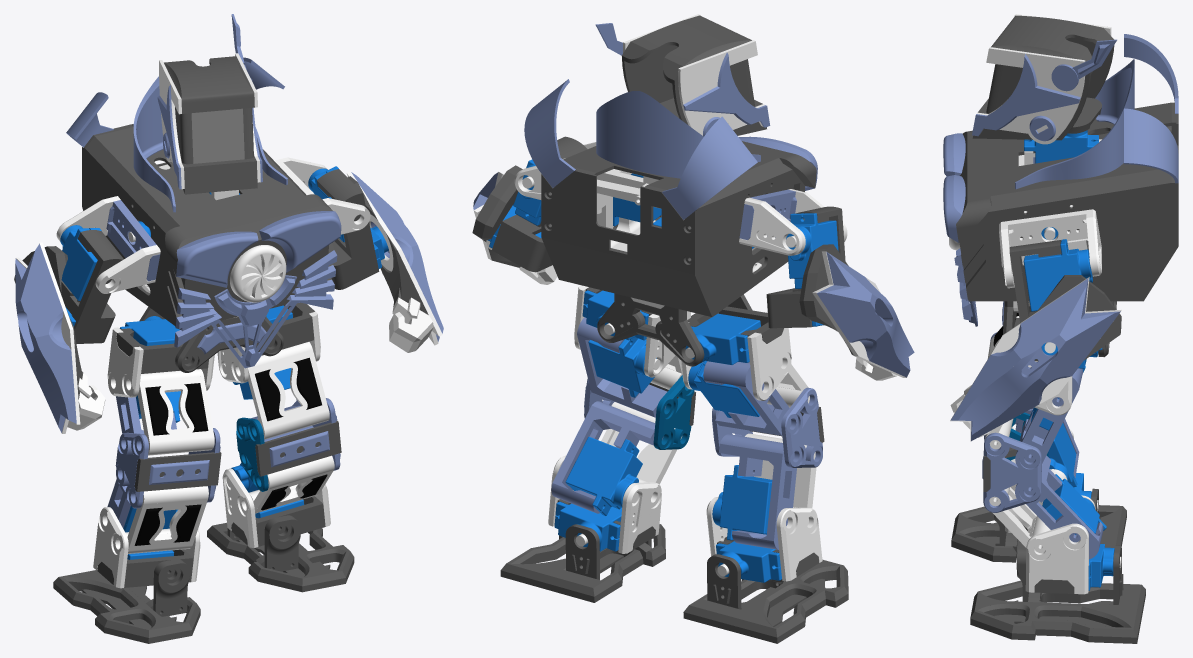
The model's file is E1_GYPSY_COMPLETO_RBT_V1_IB2026-v1.glb.
3 views of the same model, side by side, from view 1: azimuth 30°, elevation 25°; view 2: azimuth 150°, elevation 25°; view 3: azimuth 270°, elevation 25° (orthographic). The views are drawn at different scales.
Parts seen in each view (by area): view 1: CuerpoCENTRAL_RBT_V1_IB2026-1 (×9), JuntaArticulaciones_RBT_V1_IB2026-1 (×2), CabezaMC_RBT_V1IB2026-1 (×3), PlantaPie_RBT_V1_IB2026-1 (×2), Prueba 2 mano-3 (×4), ArtRODILLA_RBT_V1_IB2026-1_1 (×3), Prueba 2 mano-1 (×4), ServoAzul-1_12, ArtHombro_RBT_V1_IB2026-1 (×5), ArtPIERNA_RBT_V1_IB2026-2 (×3), ArtPIERNA_RBT_V1_IB2026-1 (×2), EjePie_RBT_V1_IB2026-3 (+7 smaller); view 2: CuerpoCENTRAL_RBT_V1_IB2026-1 (×7), ServoAzul-1_12, ServoPIERNA_RBT_V1_IB2026-1_2, CabezaMC_RBT_V1IB2026-1 (×3), PlantaPie_RBT_V1_IB2026-1 (×2), Prueba 2 mano-3 (×3), ArtPIERNA_RBT_V1_IB2026-2 (×2), JuntaArticulaciones_RBT_V1_IB2026-1, ArtPIERNA_RBT_V1_IB2026-1 (×2), ArtHombro_RBT_V1_IB2026-1 (×3), EjeCADERA_RBT_V1_IB2026-1, EjePie_RBT_V1_IB2026-2_1 (+7 smaller); view 3: CuerpoCENTRAL_RBT_V1_IB2026-1 (×9), CabezaMC_RBT_V1IB2026-1 (×5), Prueba 2 mano-1 (×3), PlantaPie_RBT_V1_IB2026-1 (×2), ServoAzul-1_12, ArtPIERNA_RBT_V1_IB2026-1 (×2), ServoPIERNA_RBT_V1_IB2026-1_2, ArtHombro_RBT_V1_IB2026-1 (×3), ArtRODILLA_RBT_V1_IB2026-1_1 (×2), JuntaArticulaciones_RBT_V1_IB2026-1, Bracket09_W_SWpart-2, EjePie_RBT_V1_IB2026-2_1 (+4 smaller).
Boxes of the visible parts, bbox=[...] form: CuerpoCENTRAL_RBT_V1_IB2026-1 (×9): bbox=[66, 57, 341, 368]; JuntaArticulaciones_RBT_V1_IB2026-1 (×2): bbox=[125, 342, 334, 553]; CabezaMC_RBT_V1IB2026-1 (×3): bbox=[157, 56, 257, 194]; PlantaPie_RBT_V1_IB2026-1 (×2): bbox=[53, 522, 354, 643]; Prueba 2 mano-3 (×4): bbox=[14, 242, 105, 433]; ArtRODILLA_RBT_V1_IB2026-1_1 (×3): bbox=[115, 398, 341, 508]; Prueba 2 mano-1 (×4): bbox=[347, 171, 443, 352]; ServoAzul-1_12: bbox=[60, 166, 388, 559]; ArtHombro_RBT_V1_IB2026-1 (×5): bbox=[56, 157, 370, 293]; ArtPIERNA_RBT_V1_IB2026-2 (×3): bbox=[93, 302, 320, 588]; ArtPIERNA_RBT_V1_IB2026-1 (×2): bbox=[107, 327, 330, 546]; EjePie_RBT_V1_IB2026-3: bbox=[153, 515, 300, 616]; CuerpoCENTRAL_RBT_V1_IB2026-1 (×7): bbox=[524, 79, 817, 316]; ServoAzul-1_12: bbox=[487, 159, 838, 582]; ServoPIERNA_RBT_V1_IB2026-1_2: bbox=[551, 317, 796, 549]; CabezaMC_RBT_V1IB2026-1 (×3): bbox=[622, 15, 770, 135]; PlantaPie_RBT_V1_IB2026-1 (×2): bbox=[500, 524, 848, 643]; Prueba 2 mano-3 (×3): bbox=[799, 244, 914, 377]; ArtPIERNA_RBT_V1_IB2026-2 (×2): bbox=[574, 285, 822, 581]; JuntaArticulaciones_RBT_V1_IB2026-1: bbox=[601, 339, 816, 525]; ArtPIERNA_RBT_V1_IB2026-1 (×2): bbox=[548, 306, 791, 549]; ArtHombro_RBT_V1_IB2026-1 (×3): bbox=[514, 158, 805, 255]; EjeCADERA_RBT_V1_IB2026-1: bbox=[597, 293, 704, 366]; EjePie_RBT_V1_IB2026-2_1: bbox=[565, 524, 741, 609]; CuerpoCENTRAL_RBT_V1_IB2026-1 (×9): bbox=[943, 34, 1178, 326]; CabezaMC_RBT_V1IB2026-1 (×5): bbox=[972, 15, 1116, 144]; Prueba 2 mano-1 (×3): bbox=[950, 275, 1121, 441]; PlantaPie_RBT_V1_IB2026-1 (×2): bbox=[951, 505, 1145, 643]; ServoAzul-1_12: bbox=[1023, 130, 1121, 590]; ArtPIERNA_RBT_V1_IB2026-1 (×2): bbox=[1025, 301, 1088, 594]; ServoPIERNA_RBT_V1_IB2026-1_2: bbox=[1019, 368, 1103, 559]; ArtHombro_RBT_V1_IB2026-1 (×3): bbox=[999, 209, 1101, 288]; ArtRODILLA_RBT_V1_IB2026-1_1 (×2): bbox=[983, 332, 1041, 512]; JuntaArticulaciones_RBT_V1_IB2026-1: bbox=[985, 336, 1050, 552]; Bracket09_W_SWpart-2: bbox=[1009, 240, 1061, 322]; EjePie_RBT_V1_IB2026-2_1: bbox=[1091, 488, 1123, 604].
Bounding box in the file's own units: 0.2042 × 0.2706 × 0.1014.
